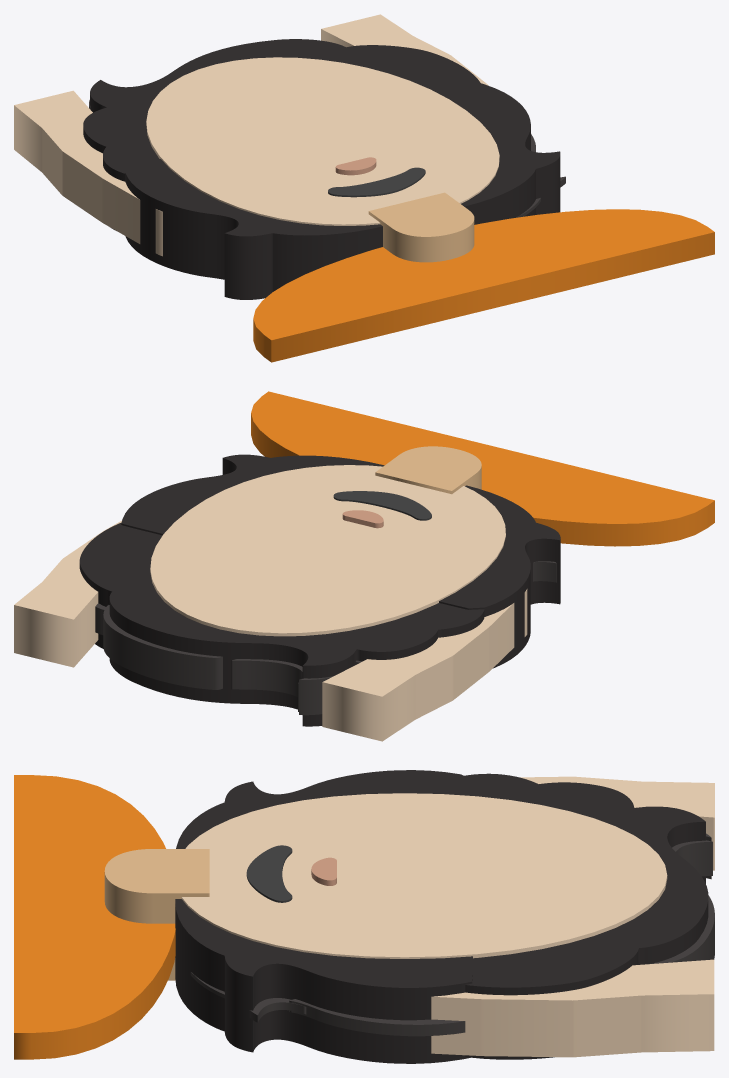
The model's file is emoji_u1f486_1f3fb.glb.
The picture shows the model from 3 angles, top to bottom: view 1: azimuth 30°, elevation 25°; view 2: azimuth 150°, elevation 25°; view 3: azimuth 270°, elevation 25°; orthographic projection. The views are drawn at different scales.
Visible parts, largest first — view 1: emoji_u1f486_1f3fb; view 2: emoji_u1f486_1f3fb; view 3: emoji_u1f486_1f3fb.
Boxes of the visible parts, x1,y1,x2,y2 form: emoji_u1f486_1f3fb: (14, 14, 714, 362); emoji_u1f486_1f3fb: (14, 391, 714, 741); emoji_u1f486_1f3fb: (14, 770, 714, 1063).
Size of the model in its own units: 0.0292 by 0.0048 by 0.0335.
